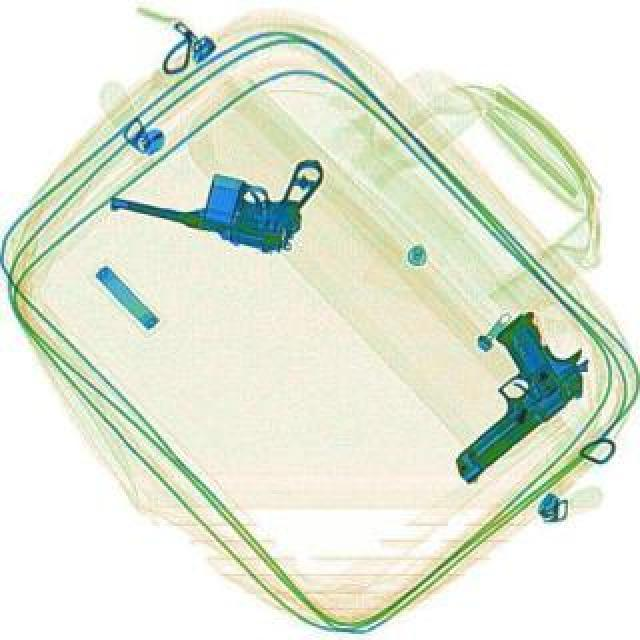gun: (400, 302, 606, 488), (106, 114, 328, 258)
